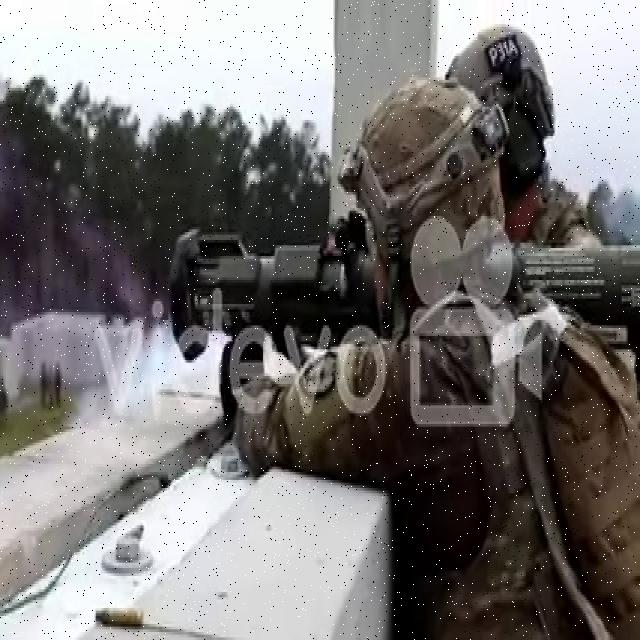bazooka: (164, 237, 640, 368)
